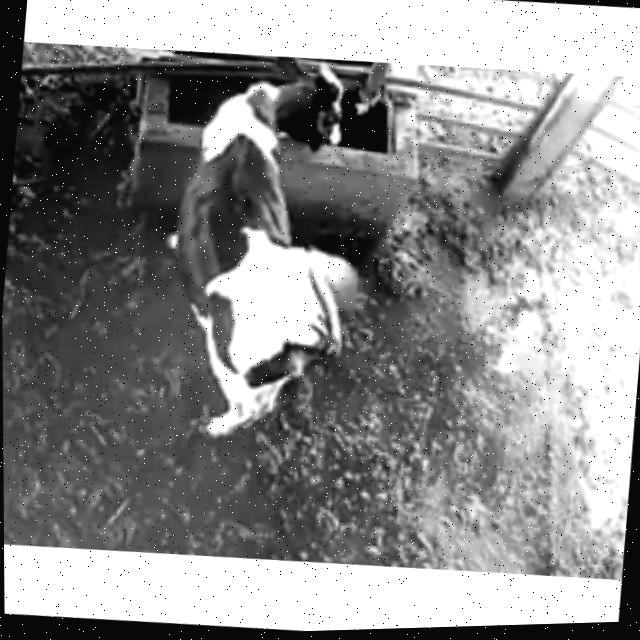drink: (198, 47, 382, 177)
